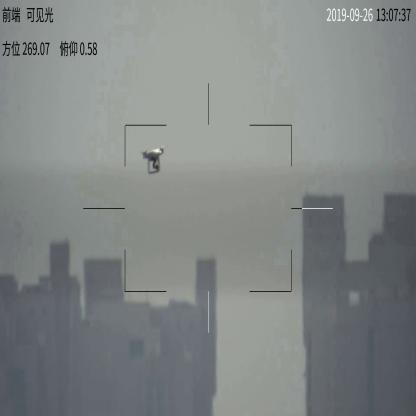uav: (137, 146, 169, 176)
